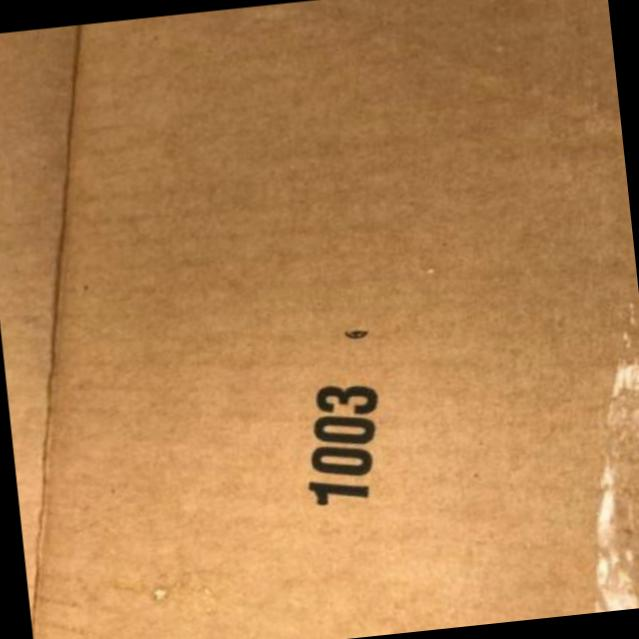cardboard paper: (36, 0, 639, 639)
